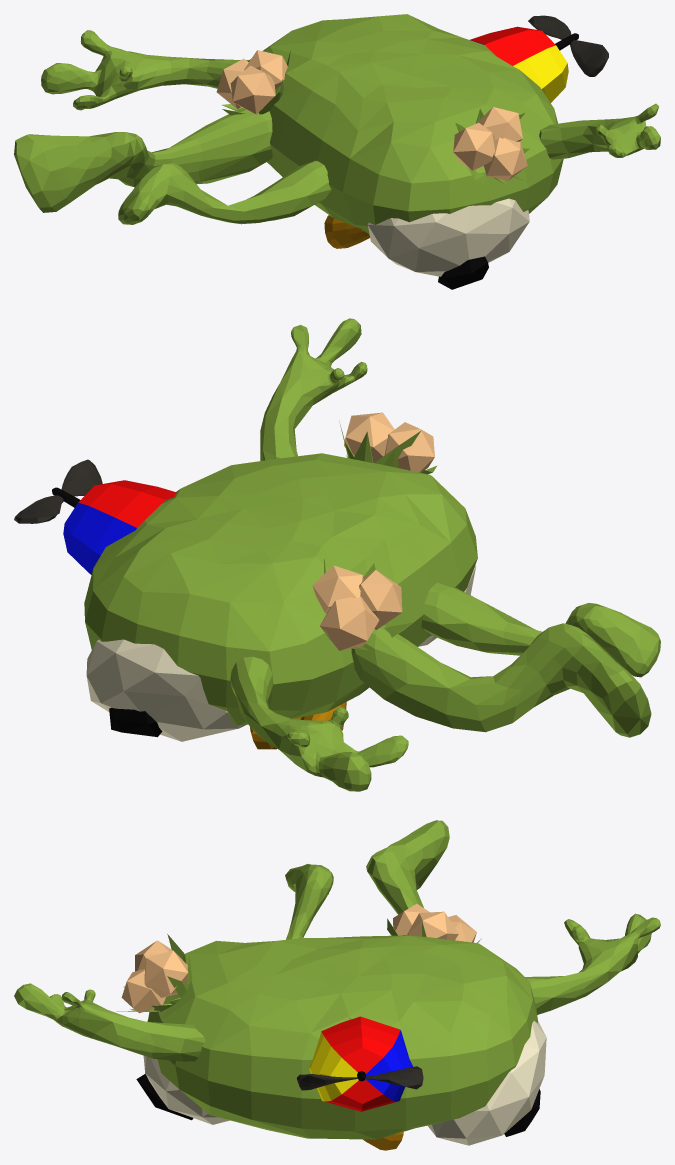
The model's file is BingBong.glb.
The picture shows the model from 3 angles, top to bottom: view 1: azimuth 30°, elevation 25°; view 2: azimuth 150°, elevation 25°; view 3: azimuth 270°, elevation 25°; orthographic projection. The views are drawn at different scales.
Visible parts, largest first — view 1: BingBong; view 2: BingBong; view 3: BingBong.
Part boxes in pixels (x1,y1,x2,y2): BingBong: (14, 14, 660, 289); BingBong: (14, 318, 660, 791); BingBong: (14, 820, 660, 1150).
Bounding box in the file's own units: 0.9007 × 0.344 × 0.9107.
1 material, 1 textured.
